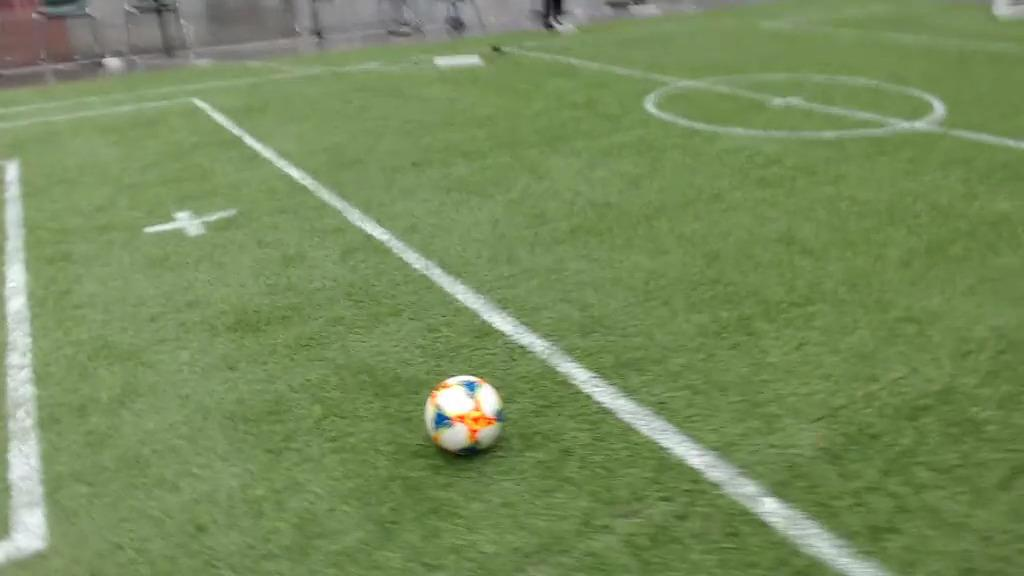ball: (426, 373, 502, 456)
